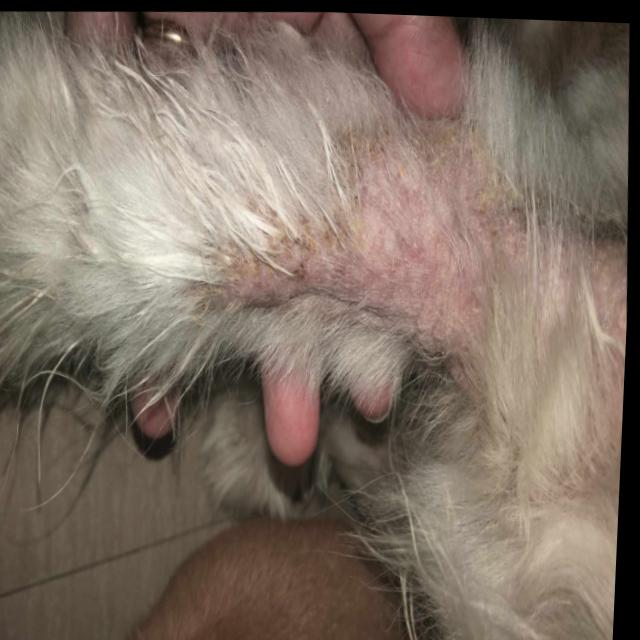demodicosis: (193, 97, 518, 358)
